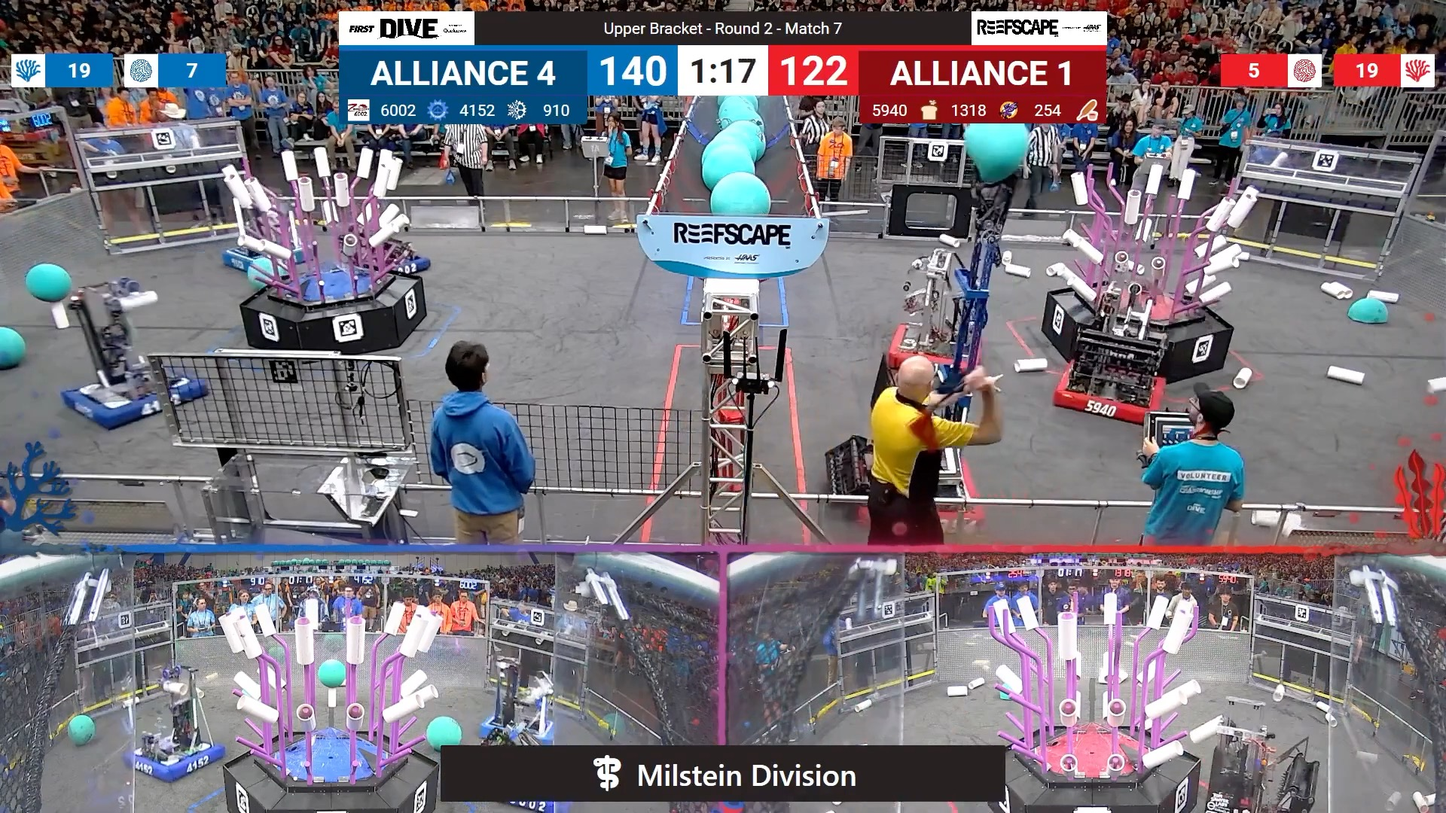bumpers: (859, 446, 990, 530), (48, 368, 208, 429), (1045, 356, 1173, 432), (120, 735, 230, 787), (480, 708, 564, 746), (370, 246, 439, 279), (219, 246, 278, 276)
